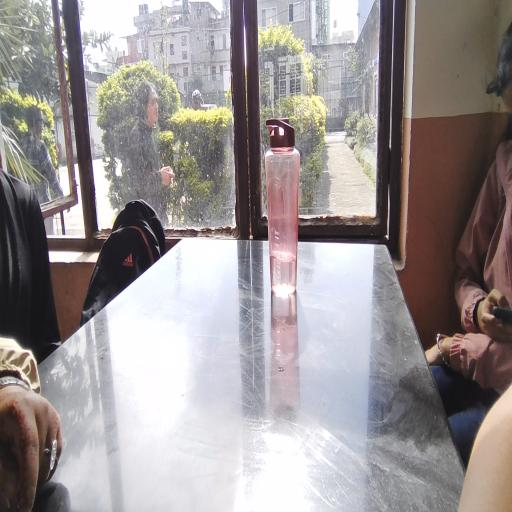Bottle: (264, 112, 312, 320)
